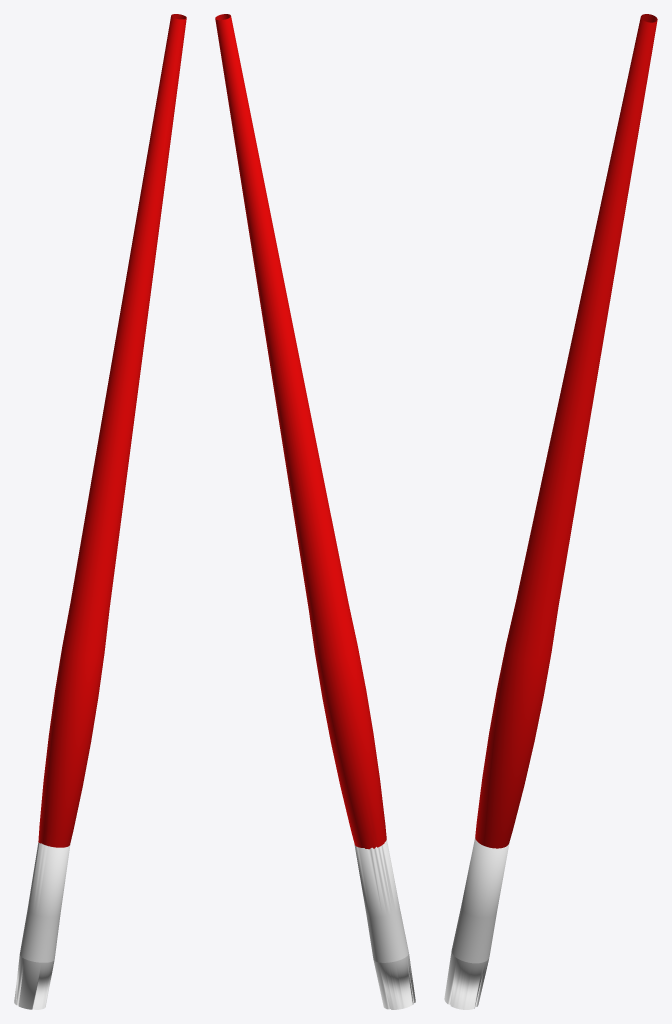
The model's file is paintbrush03.fbx.
The picture shows the model from 3 angles, left to right: view 1: azimuth 30°, elevation 25°; view 2: azimuth 150°, elevation 25°; view 3: azimuth 330°, elevation 25°; orthographic projection. The views are drawn at different scales.
Visible parts, largest first — view 1: Group1; view 2: Group1; view 3: Group1.
Part boxes in pixels (left/top/right/bottom): Group1: left=14, top=14, right=186, bottom=1009; Group1: left=215, top=14, right=415, bottom=1009; Group1: left=444, top=14, right=657, bottom=1009.
Size of the model in its own units: 0.9631 by 4.78 by 0.2253.
